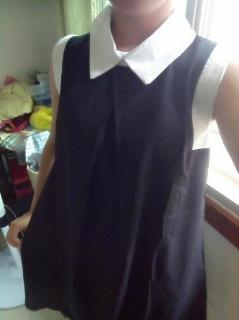short sleeve dress: (21, 3, 236, 319)
